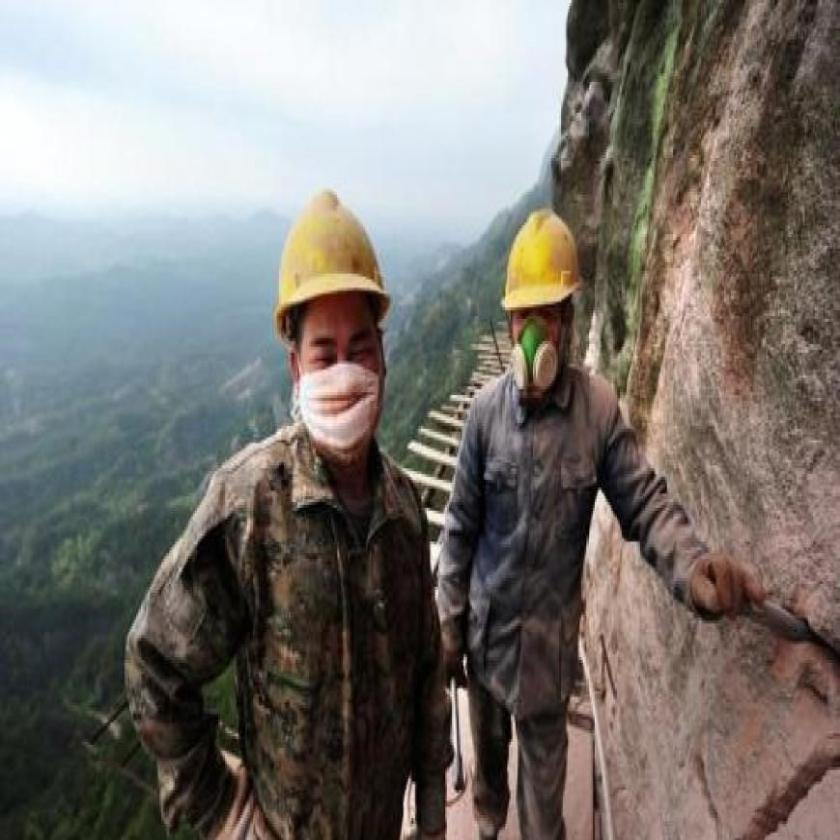Con_casco: (273, 182, 400, 470), (495, 210, 587, 414)
